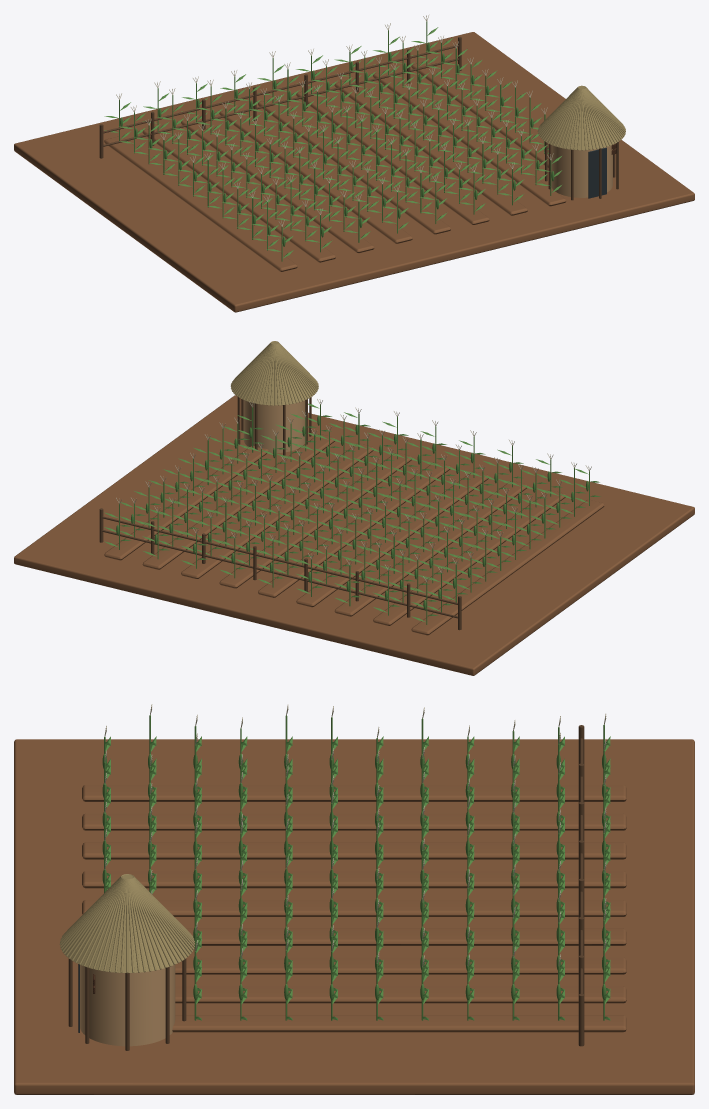
File: maize-farm.glb
The picture shows the model from 3 angles, top to bottom: view 1: azimuth 30°, elevation 25°; view 2: azimuth 150°, elevation 25°; view 3: azimuth 270°, elevation 25°; orthographic projection. The views are drawn at different scales.
Parts seen in each view (by area): view 1: Earth plot, Raised planting ridge, Raised planting ridge.004, Raised planting ridge.003, Raised planting ridge.007, Raised planting ridge.006, Raised planting ridge.002, Raised planting ridge.001, Raised planting ridge.005, Raised planting ridge.008, Round earthen wall, Conical thatch roof (+3 smaller); view 2: Earth plot, Raised planting ridge, Raised planting ridge.007, Raised planting ridge.003, Raised planting ridge.002, Raised planting ridge.006, Raised planting ridge.004, Raised planting ridge.005, Raised planting ridge.001, Raised planting ridge.008, Round earthen wall, Conical thatch roof (+2 smaller); view 3: Earth plot, Raised planting ridge.001, Raised planting ridge.002, Raised planting ridge.003, Raised planting ridge, Raised planting ridge.008, Raised planting ridge.007, Raised planting ridge.006, Raised planting ridge.004, Raised planting ridge.005, Round earthen wall, Conical thatch roof.
Boxes of the visible parts, x1,y1,x2,y2 form: Earth plot: [14, 32, 694, 312]; Raised planting ridge: [104, 136, 297, 271]; Raised planting ridge.004: [258, 98, 450, 234]; Raised planting ridge.003: [219, 108, 412, 243]; Raised planting ridge.007: [373, 70, 566, 206]; Raised planting ridge.006: [334, 80, 527, 215]; Raised planting ridge.002: [181, 117, 374, 252]; Raised planting ridge.001: [142, 127, 335, 262]; Raised planting ridge.005: [296, 89, 489, 224]; Raised planting ridge.008: [411, 61, 548, 167]; Round earthen wall: [551, 145, 612, 197]; Conical thatch roof: [539, 86, 624, 150]; Earth plot: [14, 395, 694, 675]; Raised planting ridge: [411, 499, 604, 635]; Raised planting ridge.007: [142, 434, 335, 569]; Raised planting ridge.003: [296, 471, 489, 607]; Raised planting ridge.002: [334, 481, 527, 616]; Raised planting ridge.006: [181, 443, 374, 578]; Raised planting ridge.004: [258, 462, 450, 597]; Raised planting ridge.005: [219, 452, 412, 588]; Raised planting ridge.001: [373, 490, 565, 625]; Raised planting ridge.008: [104, 446, 268, 560]; Round earthen wall: [243, 400, 305, 452]; Conical thatch roof: [232, 341, 317, 405]; Earth plot: [14, 739, 694, 1094]; Raised planting ridge.001: [82, 813, 626, 830]; Raised planting ridge.002: [82, 842, 626, 859]; Raised planting ridge.003: [82, 871, 626, 888]; Raised planting ridge: [82, 785, 626, 801]; Raised planting ridge.008: [172, 1015, 626, 1032]; Raised planting ridge.007: [175, 986, 626, 1003]; Raised planting ridge.006: [175, 957, 626, 974]; Raised planting ridge.004: [82, 900, 626, 916]; Raised planting ridge.005: [186, 928, 626, 945]; Round earthen wall: [80, 965, 175, 1046]; Conical thatch roof: [61, 874, 193, 972].
Size of the model in its own units: 18 by 3.93 by 15.
8 materials, 1 textured.
